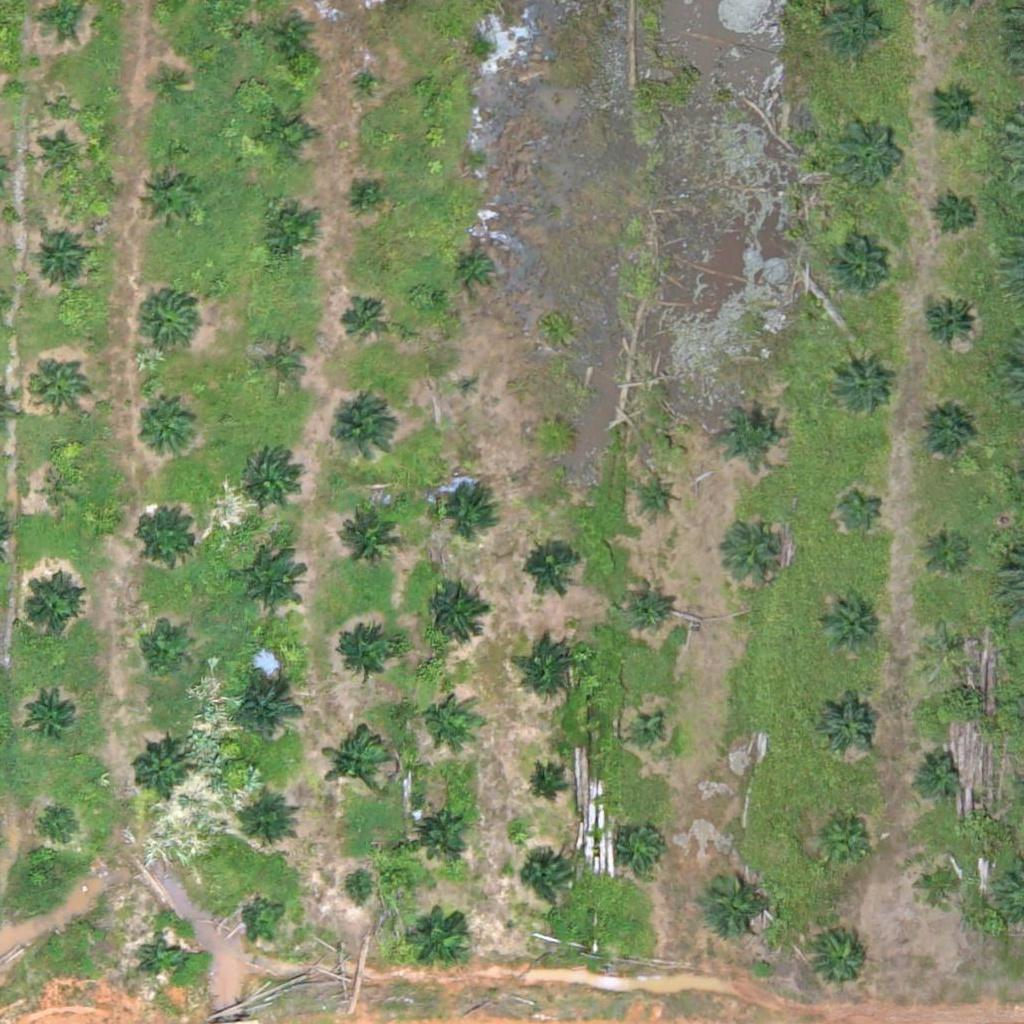Kelapa_Sawit: (329, 625, 404, 701), (232, 544, 307, 620), (325, 397, 400, 473), (333, 499, 408, 575), (700, 867, 775, 943), (321, 727, 396, 803), (230, 676, 305, 751), (832, 114, 907, 189), (730, 518, 793, 581), (719, 402, 782, 465), (434, 474, 497, 537), (19, 576, 82, 639), (24, 683, 87, 746), (411, 904, 474, 967), (238, 794, 301, 857), (410, 799, 473, 862), (130, 742, 193, 805), (828, 241, 891, 304), (817, 590, 880, 653), (817, 695, 880, 758), (810, 927, 873, 990), (810, 809, 873, 872), (918, 291, 981, 354), (520, 636, 582, 699), (27, 226, 89, 289), (519, 536, 581, 599), (137, 506, 199, 569), (423, 582, 486, 644), (240, 448, 302, 511), (137, 170, 199, 233), (257, 203, 319, 266), (135, 290, 197, 353), (139, 401, 201, 464), (29, 355, 91, 418), (829, 352, 891, 415), (915, 403, 977, 466), (256, 104, 318, 167), (921, 520, 971, 571), (920, 617, 970, 668), (910, 746, 960, 797), (836, 482, 886, 533), (243, 892, 293, 943), (137, 934, 187, 985), (36, 801, 86, 852), (926, 82, 976, 133), (338, 296, 388, 347), (419, 691, 469, 741), (138, 624, 188, 674), (520, 854, 570, 904), (620, 821, 670, 871), (914, 862, 964, 912), (622, 580, 672, 630), (253, 341, 303, 391), (930, 190, 980, 240), (452, 244, 502, 294), (33, 135, 83, 185), (639, 478, 677, 516), (629, 716, 667, 754), (338, 870, 376, 908), (536, 418, 574, 456), (350, 66, 388, 104), (274, 18, 312, 56), (153, 71, 191, 109), (524, 767, 561, 805), (43, 472, 80, 510), (352, 182, 377, 208), (456, 372, 481, 397)
